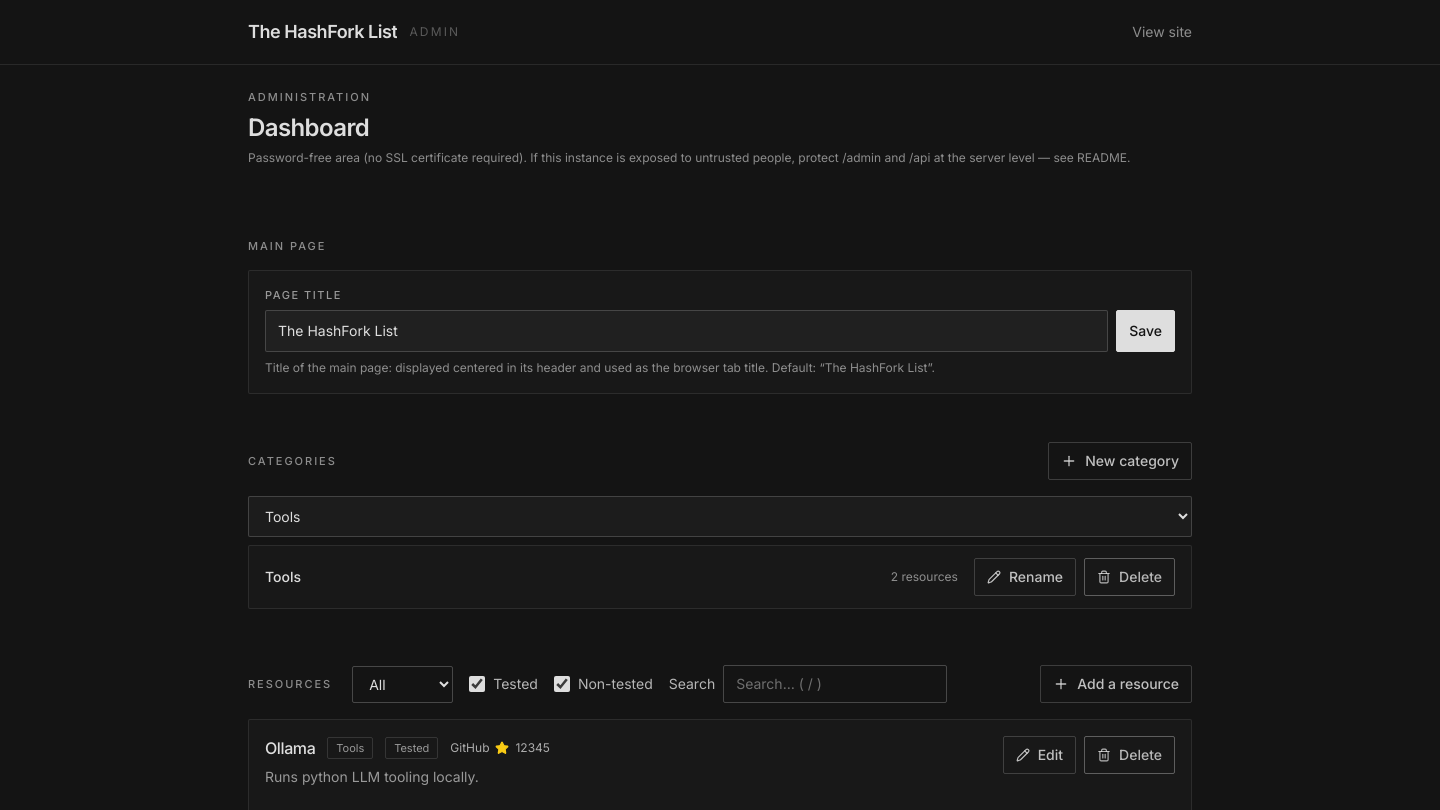
Test: Admin — category dropdown › lists every category in the dropdown and shows just one row with its actions
Expected: the number of buttons "Rename" is 1, [974,558,1076,596]
Expected: the number of buttons "Delete" is 1, [1084,558,1175,596]
Step 1. Select "Security" in the dropdown named "Manage category" below "Categories" → (720, 516), box [248,496,1192,537]
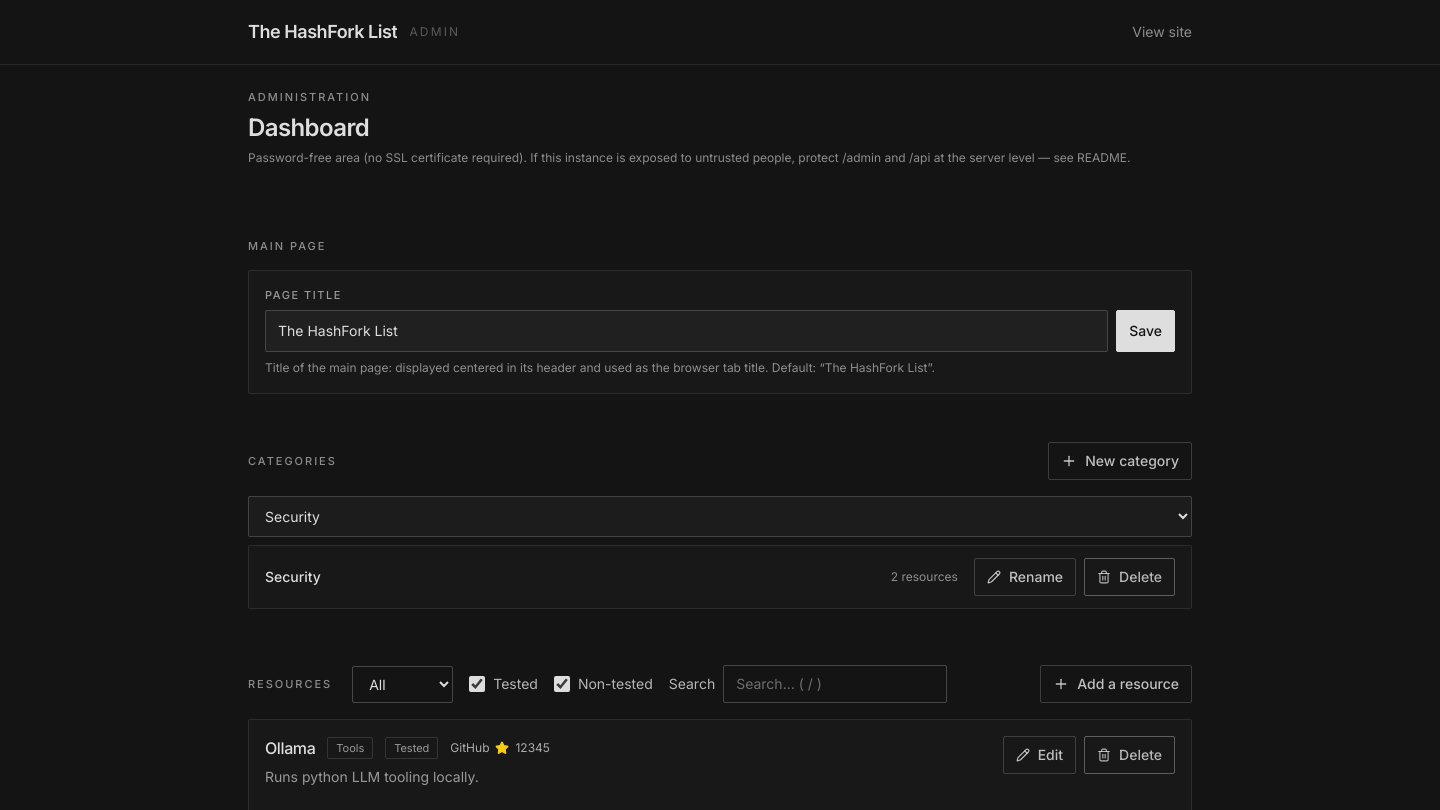
Expected: the text "2 resources" is shown, [891,569,958,585]
Expected: the list item "Security 2 resources Rename Delete" is shown, [248,545,1192,609]
